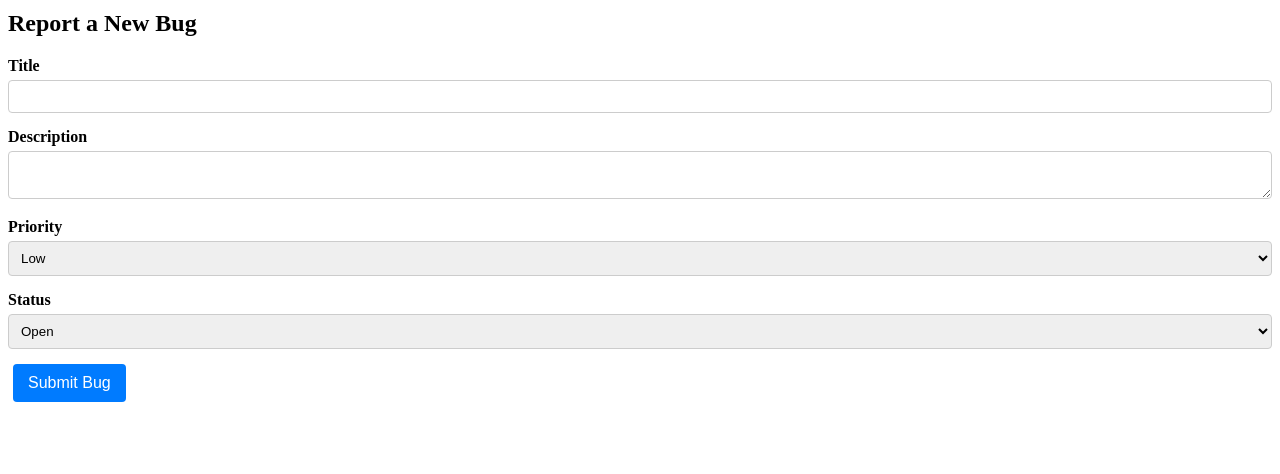
Test: Form Submission and Validation Integration Tests › BugForm Component Validation › should validate title minimum length
This screenshot has width=1280, height=474.
Type "Test" into the field with test id "title-input".
click(640, 96); type("Test")  # box [8,80,1272,113]
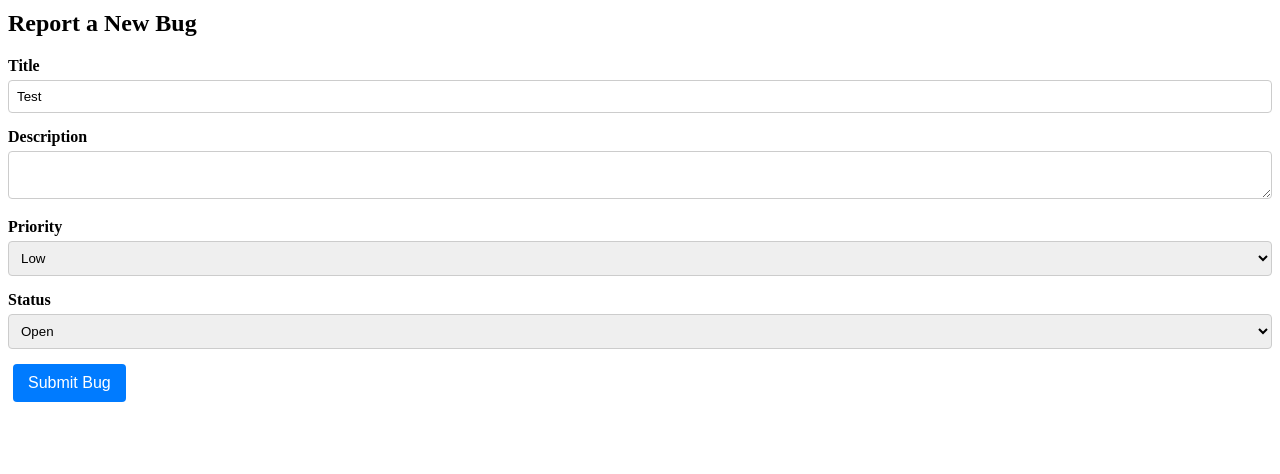
Type "This is a valid description that meets requirements" into the text box with test id "description-input".
click(640, 175); type("This is a valid description that meets requirements")  # box [8,151,1272,199]
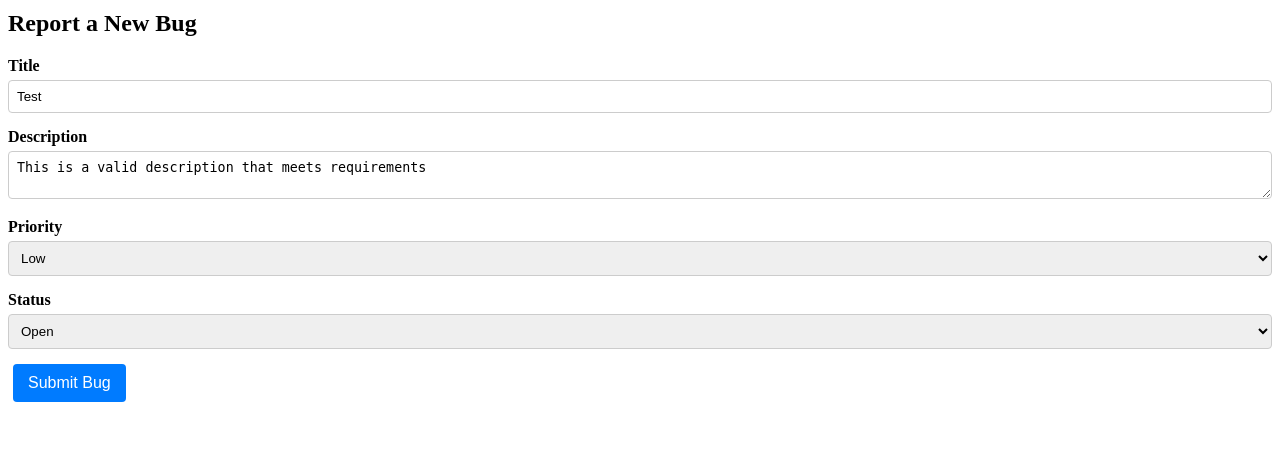
Click the button with test id "submit-button".
click(69, 383)  # box [13,364,126,402]
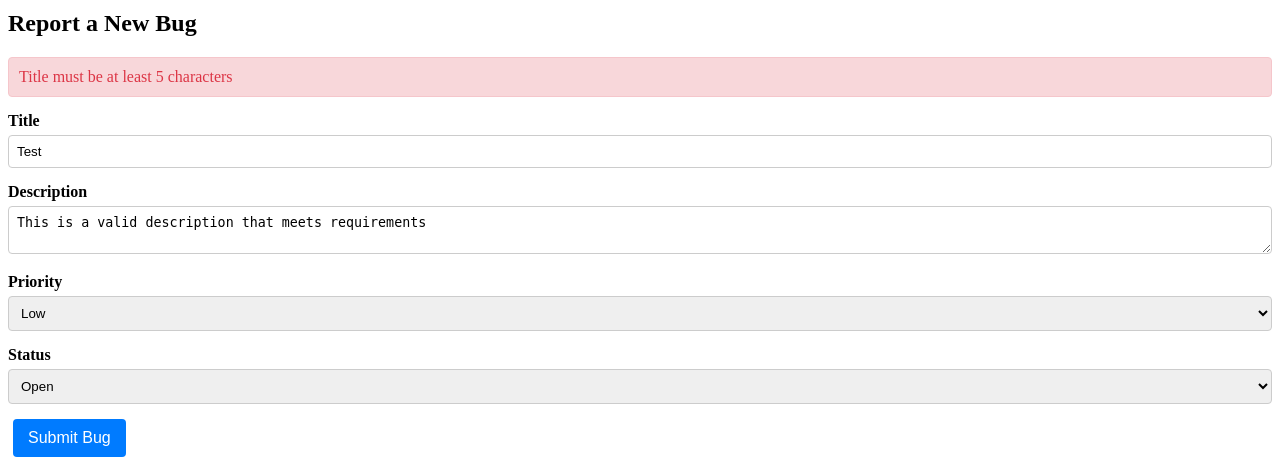
Expected: the text "Title must be at least 5 characters" is shown, [8,57,1272,97]
